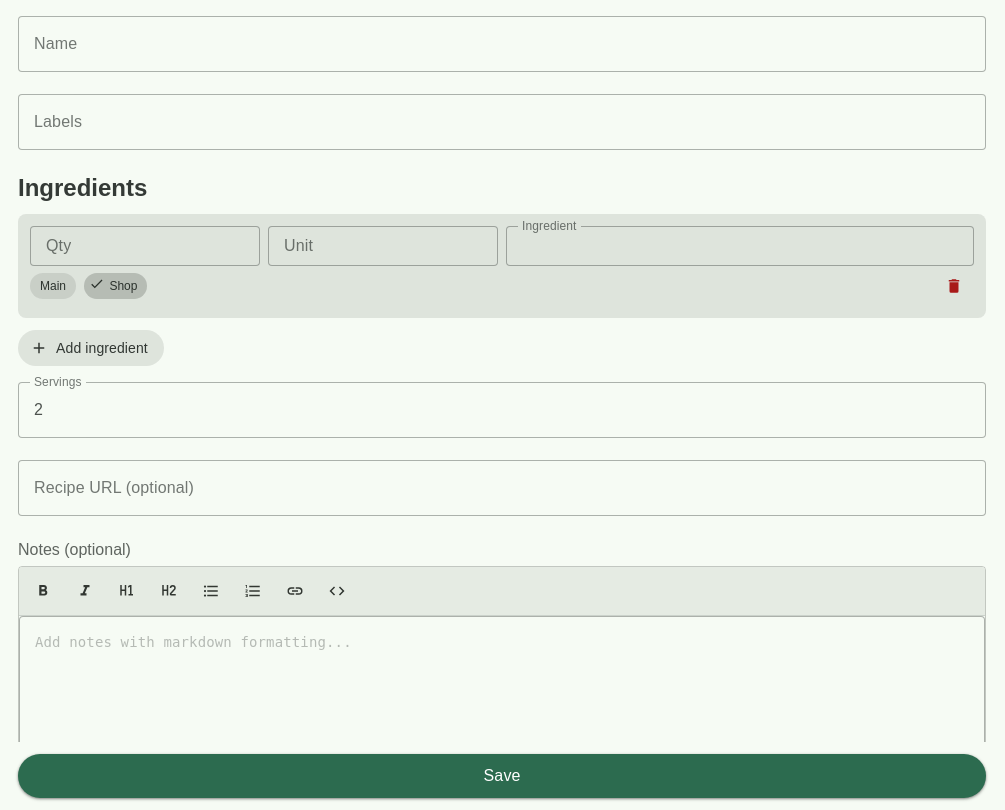
Test: RecipeEditView › adds and removes ingredient rows
Check: the number of elements with test id "ingredient-row" is 1, box [18,214,986,318]
Click the button "Add ingredient" at (91, 348), box [18,330,164,366]
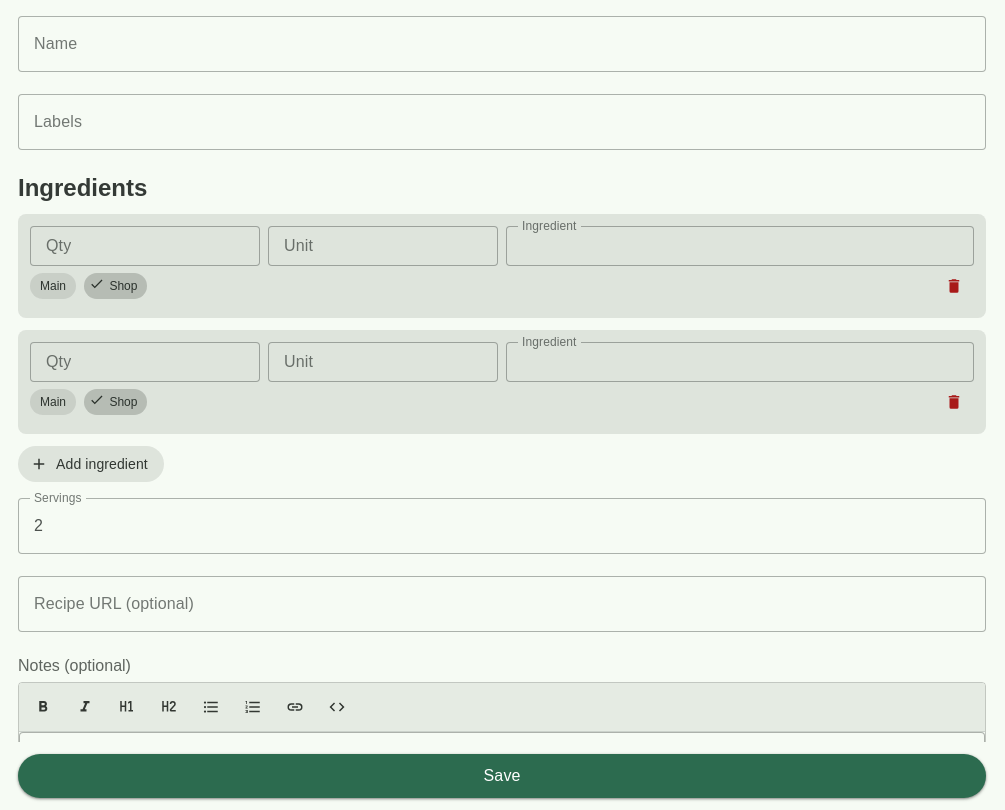
Check: the number of elements with test id "ingredient-row" is 2, box [18,214,986,318]; [18,330,986,434]
Click the button named "Remove ingredient 1" at (954, 286), box [934,266,974,306]
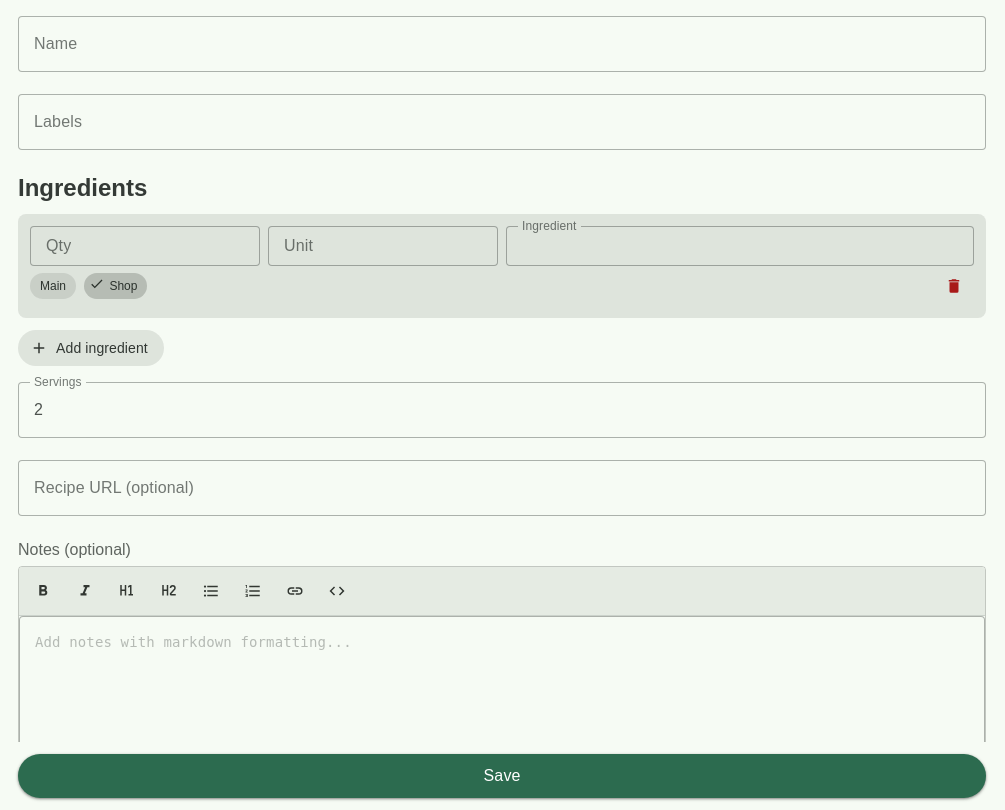
Check: the number of elements with test id "ingredient-row" is 1, box [18,214,986,318]
